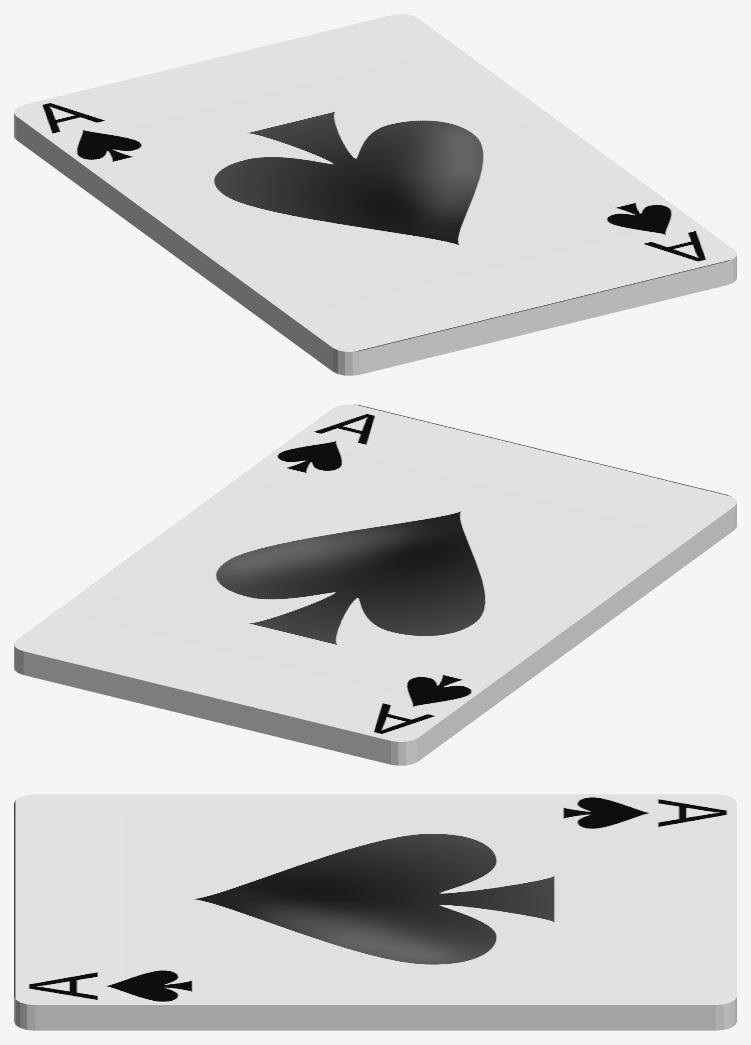
Rendered from Card3.fbx.
3 views of the same model, one above another, from view 1: azimuth 30°, elevation 25°; view 2: azimuth 150°, elevation 25°; view 3: azimuth 270°, elevation 25° (orthographic). The views are drawn at different scales.
Visible parts, largest first — view 1: Cube; view 2: Cube; view 3: Cube.
Part boxes in pixels (x1=…): Cube: x1=14, y1=14, x2=736, y2=375; Cube: x1=14, y1=404, x2=736, y2=765; Cube: x1=14, y1=794, x2=736, y2=1030.
Bounding box in the file's own units: 200 × 11.34 × 290.
Materials: 1 (1 with a texture image).
